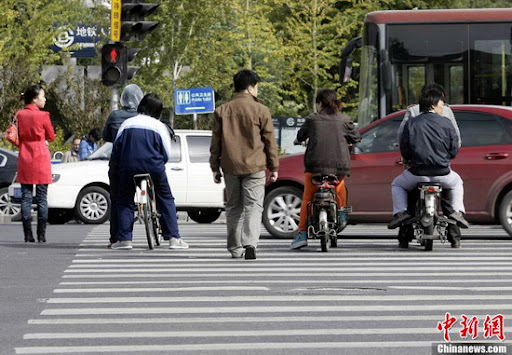person: (380, 74, 474, 262), (195, 62, 281, 257), (100, 84, 191, 254), (289, 74, 366, 253), (4, 77, 62, 244)
